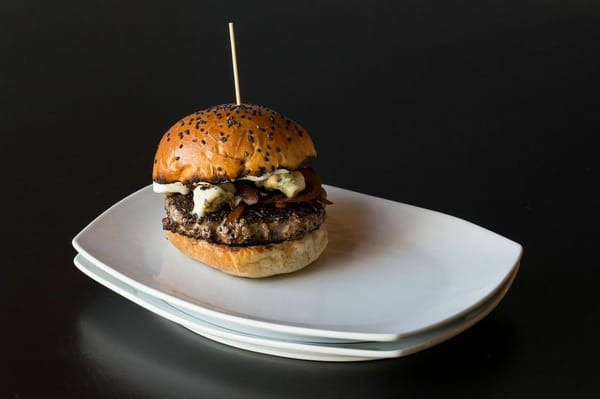soup: (151, 102, 331, 279)
